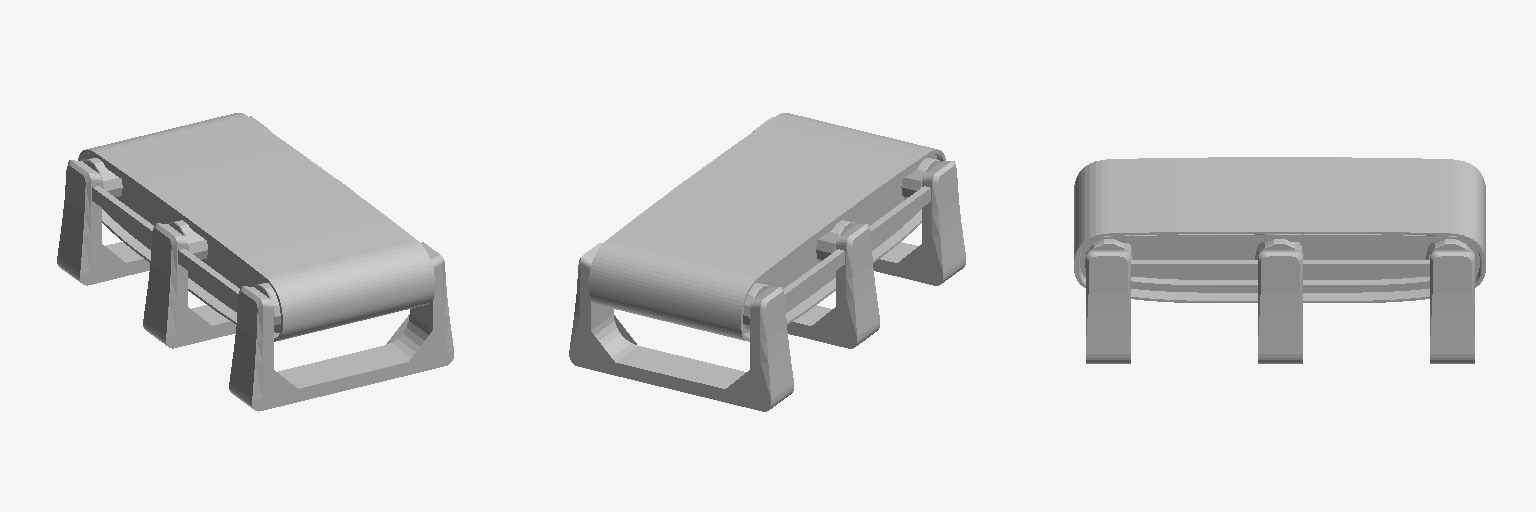
File: conveyor4.obj
3 renders of one model, left to right at view 1: azimuth 30°, elevation 25°; view 2: azimuth 150°, elevation 25°; view 3: azimuth 270°, elevation 25°, orthographic.
Parts seen in each view (by area): view 1: belt, legs, sides, bars, motors; view 2: belt, legs, sides, bars, motors; view 3: belt, legs, sides, bars, motors.
Part boxes in pixels (x1,y1,x2,y2): belt: (78, 113, 434, 341); legs: (57, 116, 453, 411); sides: (86, 153, 280, 332); bars: (92, 186, 239, 306); motors: (83, 158, 280, 329); belt: (589, 113, 945, 341); legs: (569, 117, 965, 411); sides: (743, 153, 937, 332); bars: (783, 186, 930, 306); motors: (743, 158, 940, 329); belt: (1074, 157, 1485, 302); legs: (1086, 164, 1474, 363); sides: (1080, 235, 1479, 292); bars: (1131, 260, 1429, 276); motors: (1085, 234, 1470, 267).
Size of the model in its own units: 5.63 by 3.28 by 9.95.